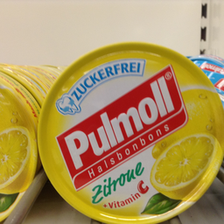candy: (37, 42, 224, 221)
